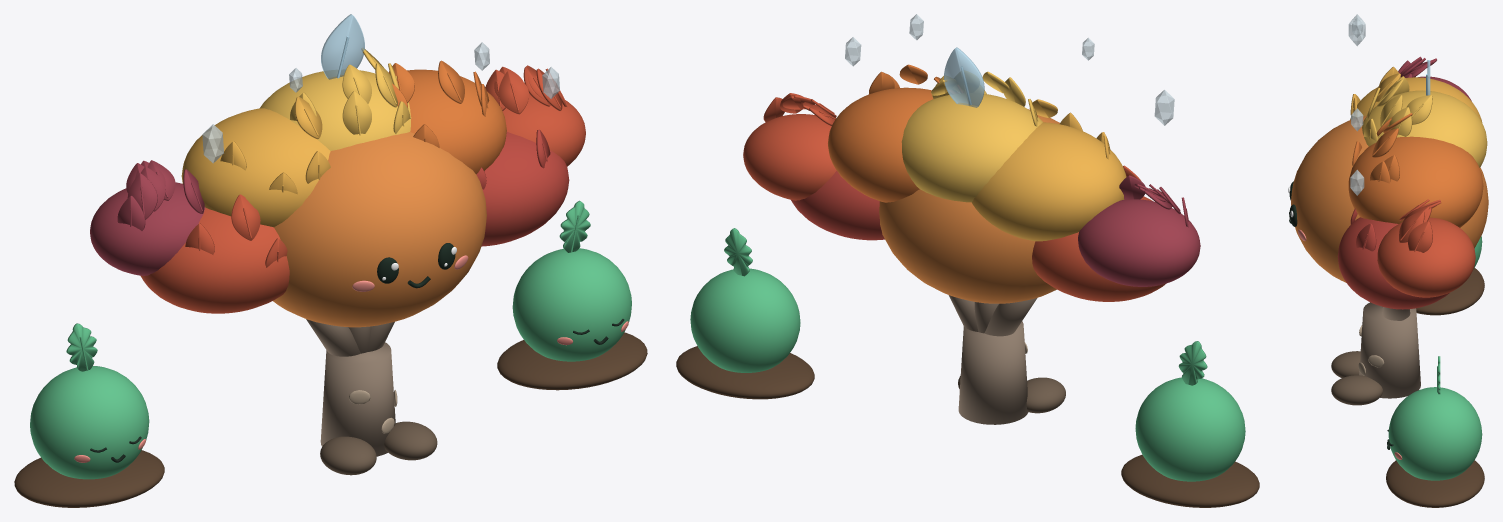
File: sprig-5.glb
3 views of the same model, side by side, from view 1: azimuth 30°, elevation 25°; view 2: azimuth 150°, elevation 25°; view 3: azimuth 270°, elevation 25° (orthographic). The views are drawn at different scales.
Parts seen in each view (by area): view 1: Crown, Friend.001, Friend, Crown puff.002, Crown puff, Crown puff.001, Crown puff.003, Trunk, Crown puff.005, Friend soil.001, Friend soil, Crown puff.004 (+14 smaller); view 2: Crown, Crown puff.002, Crown puff.004, Friend.001, Friend, Crown puff.005, Crown puff.003, Crown puff.006, Trunk, Friend soil.001, Friend soil, Crown puff (+6 smaller); view 3: Crown puff.003, Crown, Friend.001, Crown puff.006, Trunk, Crown puff.001, Crown puff.004, Friend soil.001, Friend soil, Foot.001, Crown puff.002, Foot (+13 smaller).
Boxes of the visible parts, x1,y1,x2,y2 form: Crown: [273, 132, 486, 327]; Friend.001: [512, 248, 631, 361]; Friend: [30, 366, 149, 479]; Crown puff.002: [181, 108, 330, 227]; Crown puff: [140, 208, 289, 313]; Crown puff.001: [481, 132, 569, 246]; Crown puff.003: [407, 69, 506, 174]; Trunk: [320, 342, 395, 456]; Crown puff.005: [90, 182, 205, 275]; Friend soil.001: [497, 332, 647, 390]; Friend soil: [14, 450, 164, 507]; Crown puff.004: [259, 70, 411, 150]; Crown: [879, 109, 1059, 303]; Crown puff.002: [971, 122, 1126, 241]; Crown puff.004: [901, 94, 1042, 202]; Friend.001: [690, 268, 800, 372]; Friend: [1135, 377, 1245, 481]; Crown puff.005: [1078, 199, 1200, 286]; Crown puff.003: [828, 87, 933, 202]; Crown puff.006: [743, 114, 836, 200]; Trunk: [958, 321, 1028, 424]; Friend soil.001: [676, 346, 814, 399]; Friend soil: [1121, 454, 1259, 507]; Crown puff: [1032, 196, 1166, 301]; Crown puff.003: [1348, 136, 1483, 227]; Crown: [1291, 115, 1488, 282]; Friend.001: [1388, 387, 1482, 480]; Crown puff.006: [1377, 217, 1475, 297]; Trunk: [1359, 302, 1420, 398]; Crown puff.001: [1337, 217, 1449, 309]; Crown puff.004: [1362, 90, 1487, 167]; Friend soil.001: [1386, 460, 1484, 507]; Friend soil: [1416, 267, 1484, 315]; Foot.001: [1331, 375, 1382, 405]; Crown puff.002: [1350, 77, 1482, 122]; Foot: [1331, 351, 1360, 377].
Size of the model in its own units: 4.5 by 2.91 by 1.54.
